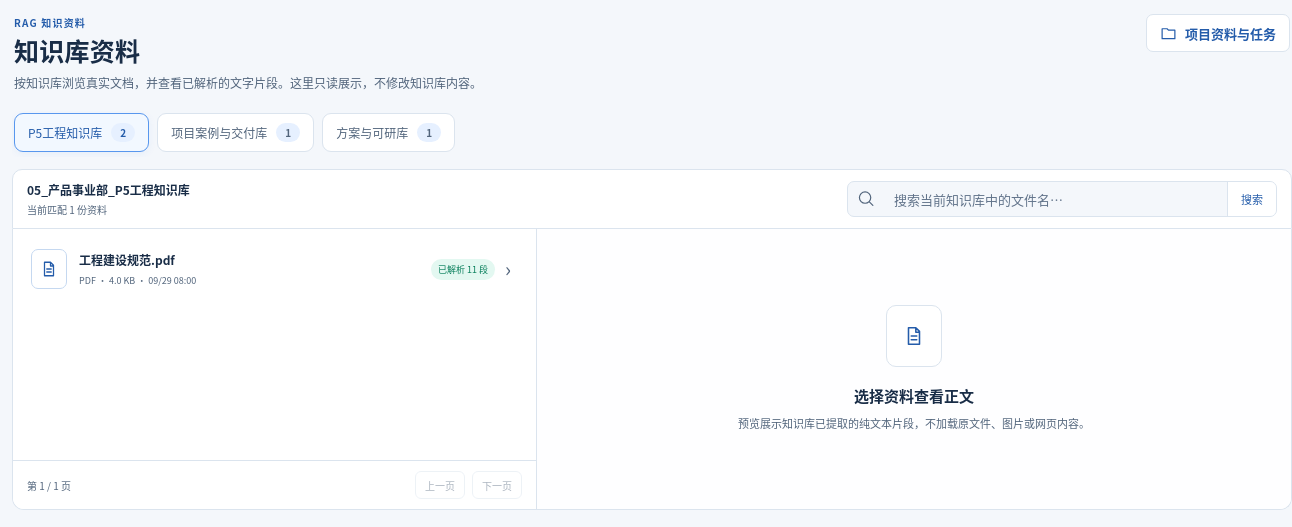
Test: KnowledgeMaterials › 按后端知识库分类加载真实文档并以纯文本预览片段
This screenshot has width=1292, height=527.
Expected: the button with aria-label "05_产品事业部_P5工程知识库，2 份资料" is shown, top-left (14, 113), bottom-right (149, 152)
Expected: the button with aria-label "01_产品事业部_方案与可研库，1 份资料" is shown, top-left (322, 113), bottom-right (455, 152)
Click the button with aria-label "02_产品事业部_项目案例与交付库，1 份资料": (236, 133) top-left (157, 113), bottom-right (314, 152)
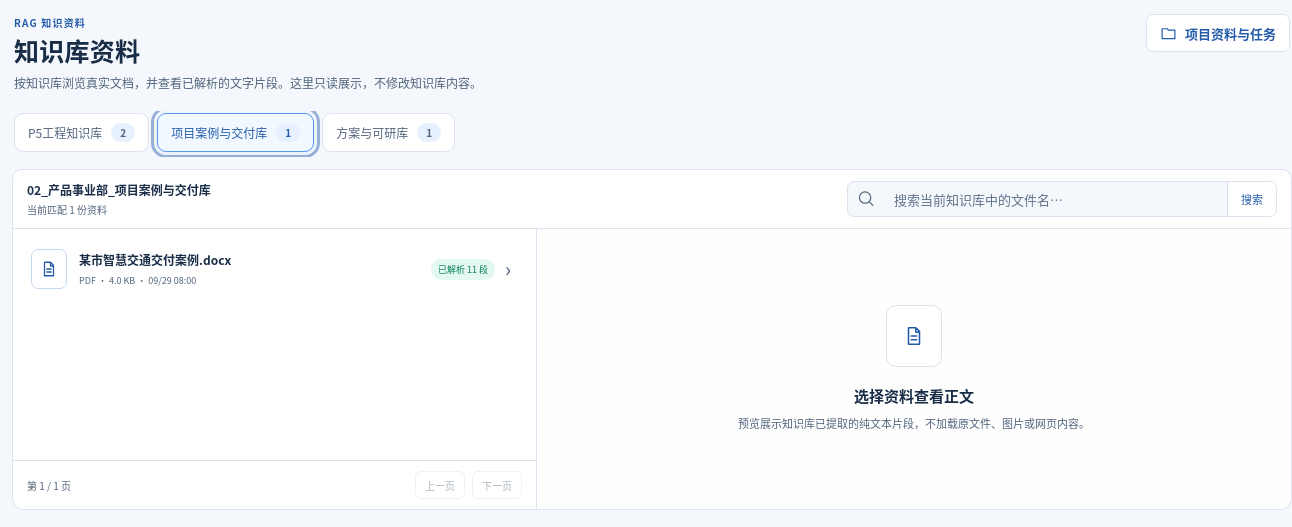
Expected: the text "某市智慧交通交付案例.docx" is shown, top-left (79, 251), bottom-right (231, 268)
Click the button "某市智慧交通交付案例.docx PDF · 4.0 KB · 09/29 08:00 已解析 11 段 ›": (49, 269) top-left (20, 236), bottom-right (529, 302)
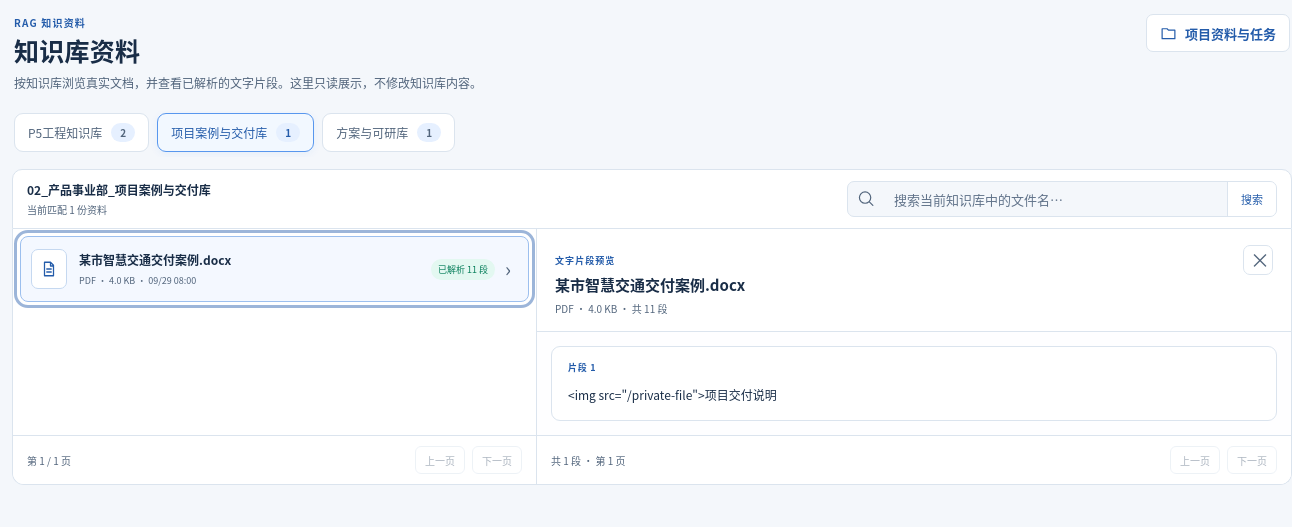
Expected: the text "<img src=\"/private-file\">项目交付说明" is shown, top-left (568, 386), bottom-right (777, 403)
